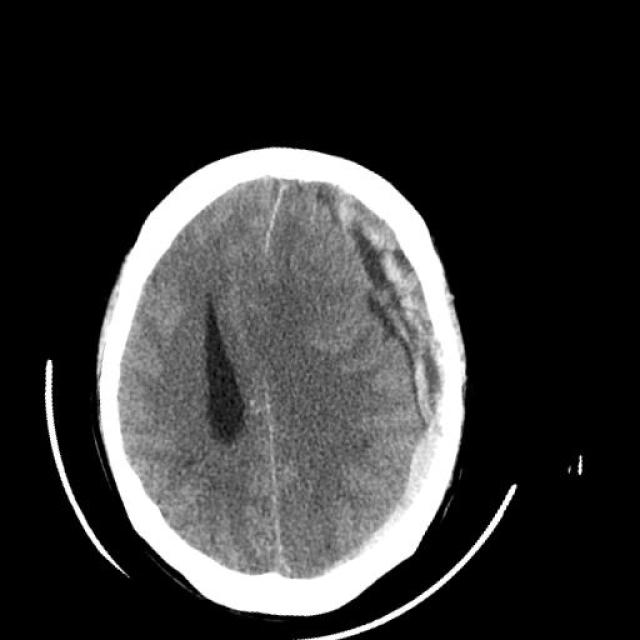Subdural: (321, 390, 468, 608)
